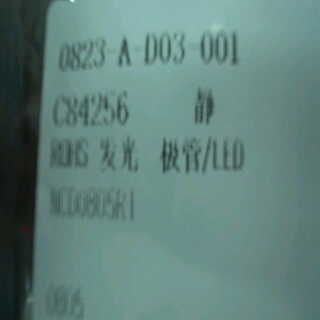LED: (101, 130, 255, 175)
